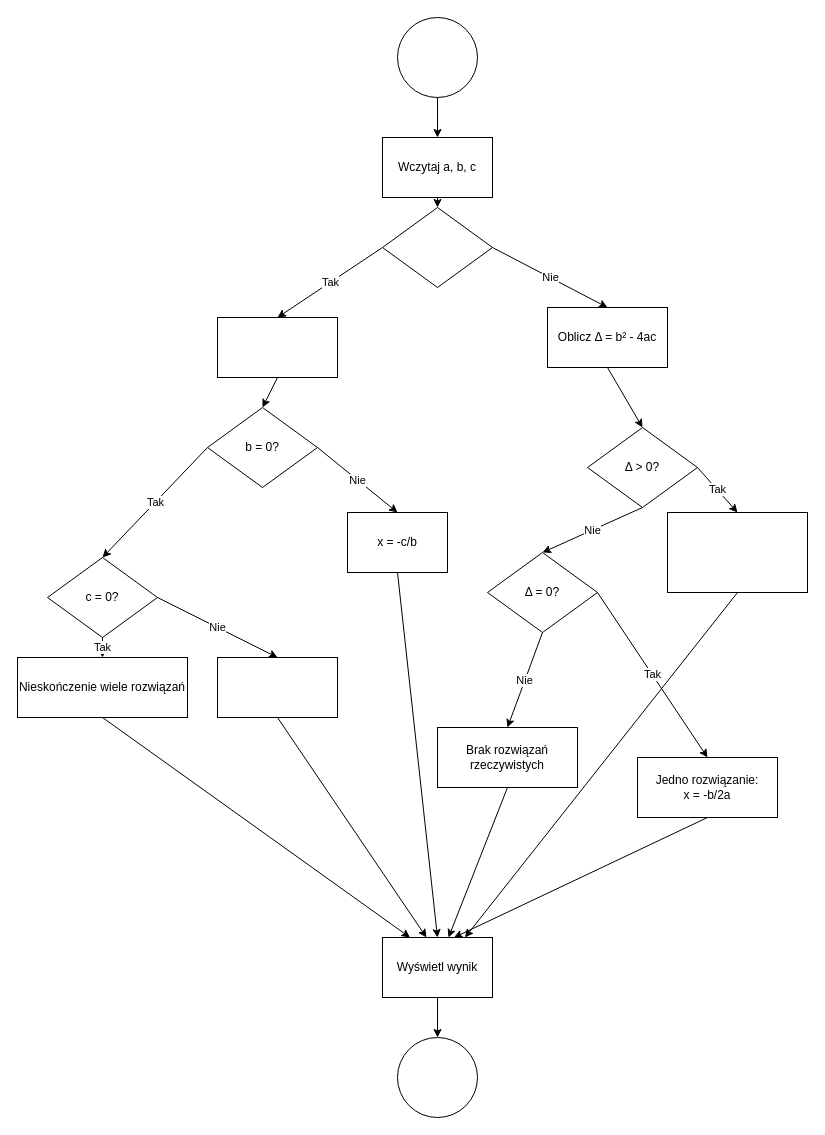
Image size: 825x1135. Some labels were removed from this diagram. Here are the shapes that lost their labels. From the top down, the centre of each, then its label:
(x=437, y=57): Start
(x=437, y=247): a = 0?
(x=277, y=347): To równanie liniowe bx + c = 0
(x=737, y=552): Dwa rozwiązania: x₁ = -b-√Δ/2a x₂ = -b+√Δ/2a
(x=277, y=687): Brak rozwiązań
(x=437, y=1077): Stop
